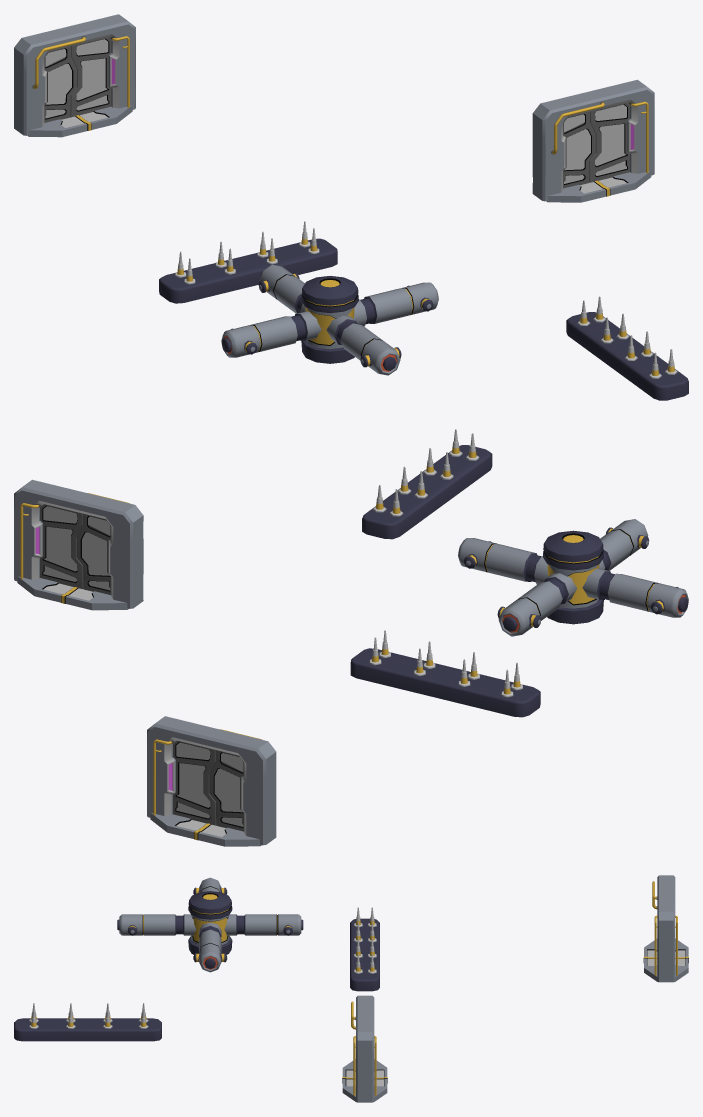
File: Level39_Objects.fbx
The picture shows the model from 3 angles, top to bottom: view 1: azimuth 30°, elevation 25°; view 2: azimuth 150°, elevation 25°; view 3: azimuth 270°, elevation 25°; orthographic projection. The views are drawn at different scales.
Visible parts, largest first — view 1: Base (×4), pCylinder14 (×4), Right (×2), Left (×2), pCylinder13, Base5 (×2); view 2: Base (×4), pCylinder14 (×4), Right (×2), Left (×2), pCylinder13, Base5 (×2); view 3: Base (×4), pCylinder14 (×3), pCylinder13, Base5 (×2).
Boxes of the visible parts, x1,y1,x2,y2 form: Base (×4): (14,14,688,400); pCylinder14 (×4): (221,264,438,375); Right (×2): (70,37,629,182); Left (×2): (44,46,595,188); pCylinder13: (301,276,358,363); Base5 (×2): (28,105,651,202); Base (×4): (14,445,540,845); pCylinder14 (×4): (458,519,688,636); Right (×2): (40,504,216,825); Left (×2): (76,513,244,831); pCylinder13: (543,530,603,624); Base5 (×2): (17,576,261,846); Base (×4): (14,875,675,1102); pCylinder14 (×3): (117,914,303,972); pCylinder13: (188,891,232,954); Base5 (×2): (342,938,688,1102).
Size of the model in its own units: 256 by 46.19 by 371.
